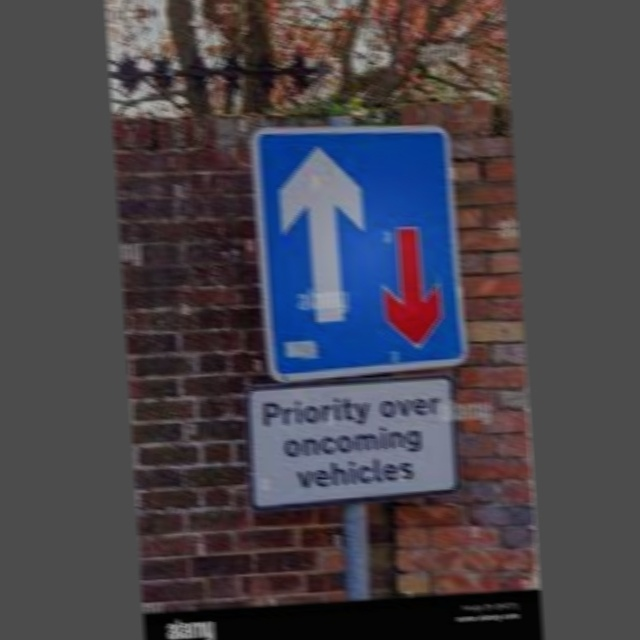Priority_for_Oncoming_Traffic: (260, 124, 464, 372)
